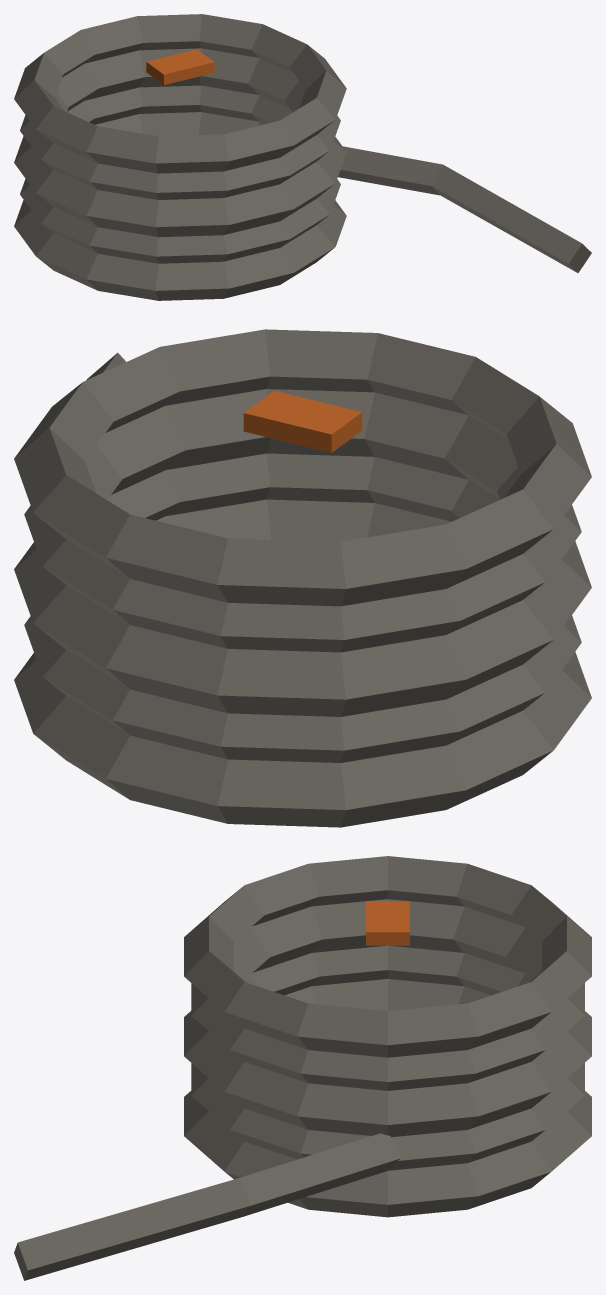
Rendered from fibercord-cable.glb.
3 renders of one model, top to bottom at view 1: azimuth 30°, elevation 25°; view 2: azimuth 150°, elevation 25°; view 3: azimuth 270°, elevation 25°, orthographic. The views are drawn at different scales.
Visible parts, largest first — view 1: m; view 2: m; view 3: m.
Boxes of the visible parts, x1,y1,x2,y2 form: m: (14,14,591,300); m: (14,329,591,827); m: (14,856,591,1280).
Bounding box in the file's own units: 0.18 × 0.0741 × 0.1742.
